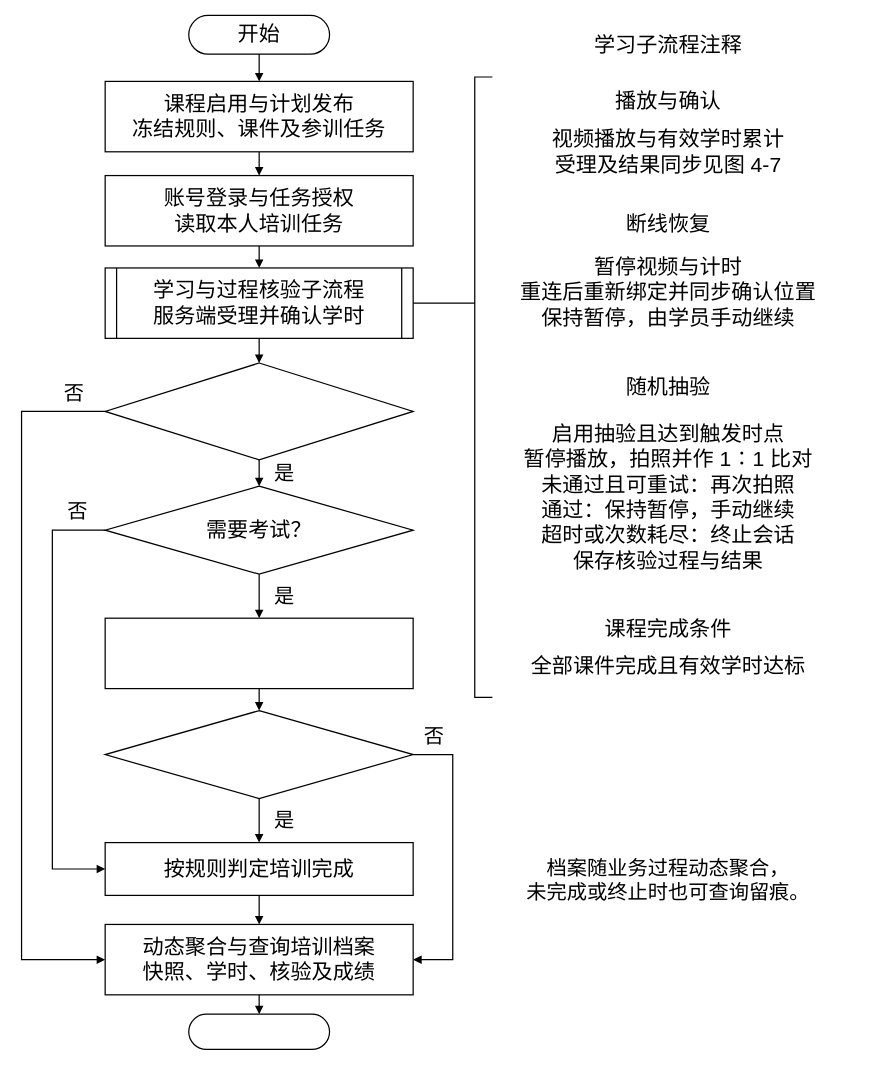
The diagram is 869 pixels wide and 1066 high, and some of its shapes have lost their labels. Here are the shapes that lost their labels. From the top down, the centre of each, then its label:
At (258,411): "全部课程 学习完成？".
At (258,653): "考试作答与服务端判分 保存答案并判定成绩".
At (258,754): "考试通过？".
At (259,1031): "结束".
